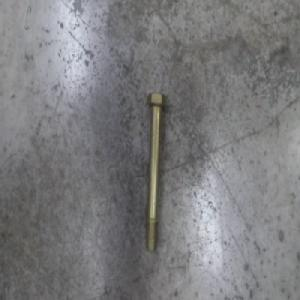Bolt: (145, 89, 167, 254)
